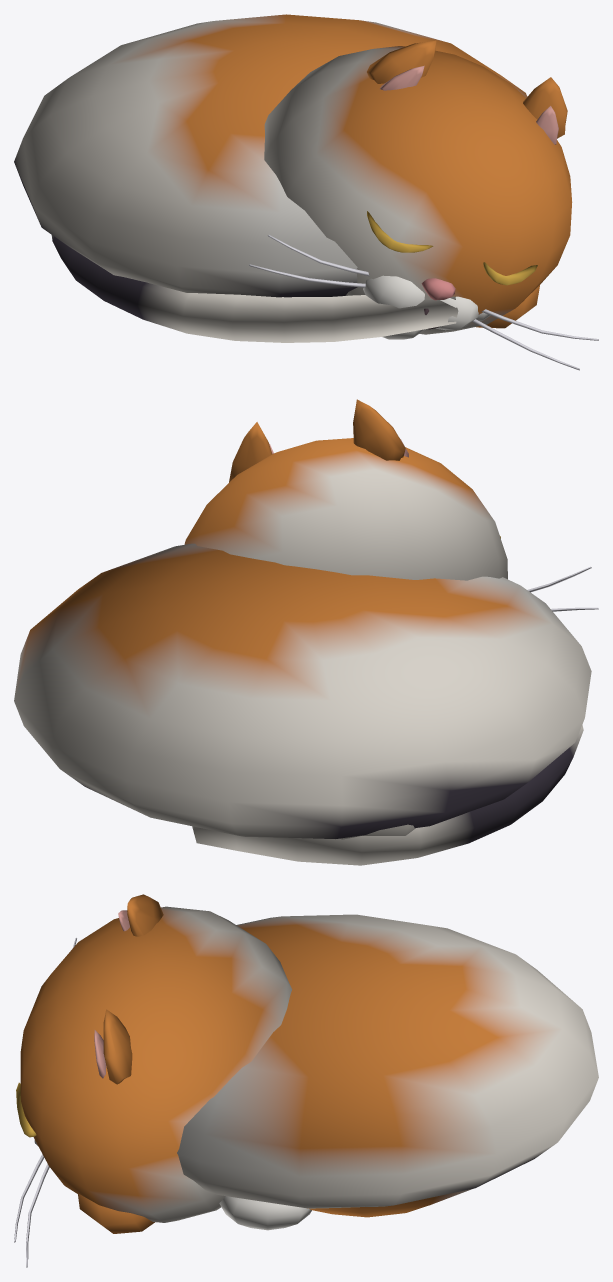
The model's file is cat_shopkeeper.glb.
3 renders of one model, top to bottom at view 1: azimuth 30°, elevation 25°; view 2: azimuth 150°, elevation 25°; view 3: azimuth 270°, elevation 25°, orthographic. The views are drawn at different scales.
Parts seen in each view (by area): view 1: cat_shopkeeper, tail; view 2: cat_shopkeeper, tail; view 3: cat_shopkeeper.
Boxes of the visible parts, x1=… form: cat_shopkeeper: x1=14, y1=14, x2=598, y2=370; tail: x1=51, y1=235, x2=458, y2=342; cat_shopkeeper: x1=14, y1=399, x2=598, y2=839; tail: x1=192, y1=725, x2=583, y2=865; cat_shopkeeper: x1=14, y1=894, x2=598, y2=1267.
Size of the model in its own units: 0.3616 by 0.233 by 0.3883.
